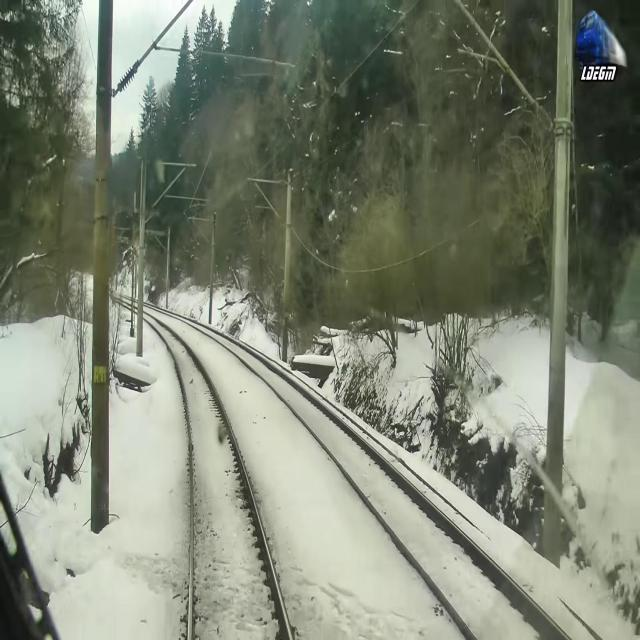rail-track: (198, 326, 565, 639), (143, 313, 288, 639)
